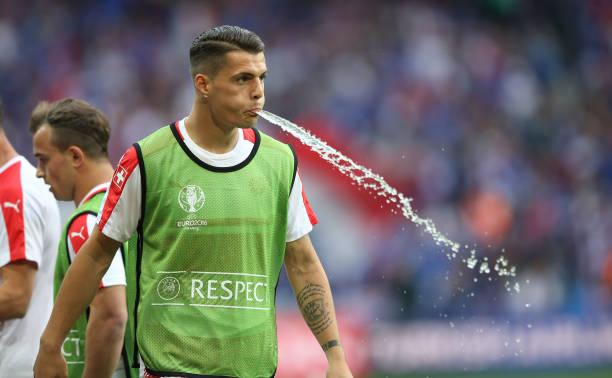Spitting: (171, 8, 296, 156)
